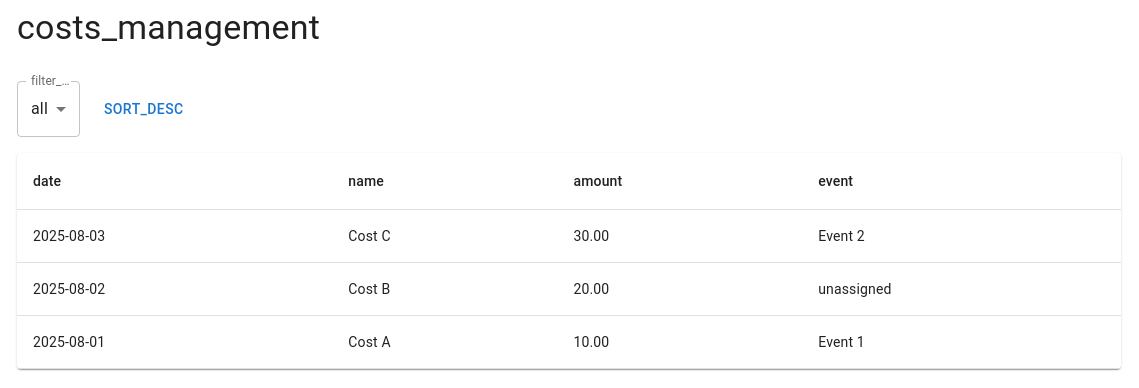
Test case: CostsManagementView › sorts costs ascending and descending by date
Expected: the row "2025-08-03 Cost C 30.00 Event 2" is shown, x1=17 y1=210 x2=1121 y2=262
Note: Click to toggle to ascending
Click the button "sort_desc" at (144, 109), box x1=96 y1=81 x2=192 y2=137
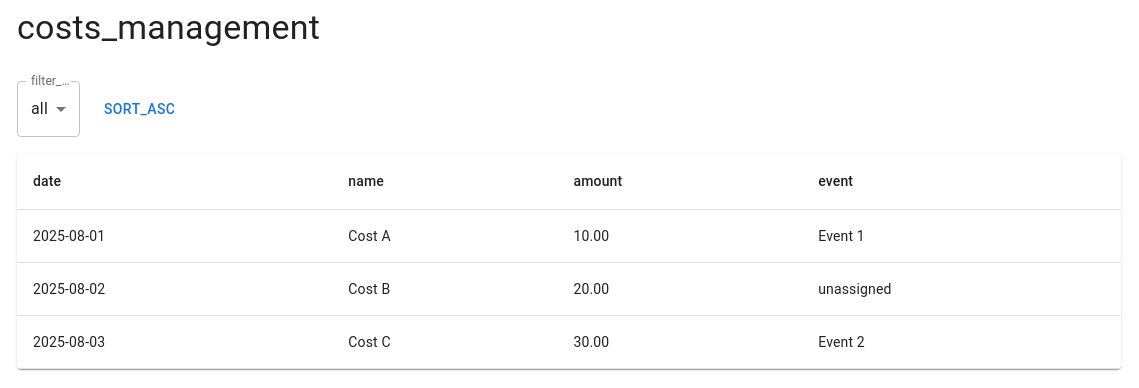
Expected: the row "2025-08-01 Cost A 10.00 Event 1" is shown, x1=17 y1=210 x2=1121 y2=262
Expected: the button "sort_asc" is shown, x1=96 y1=81 x2=183 y2=137
